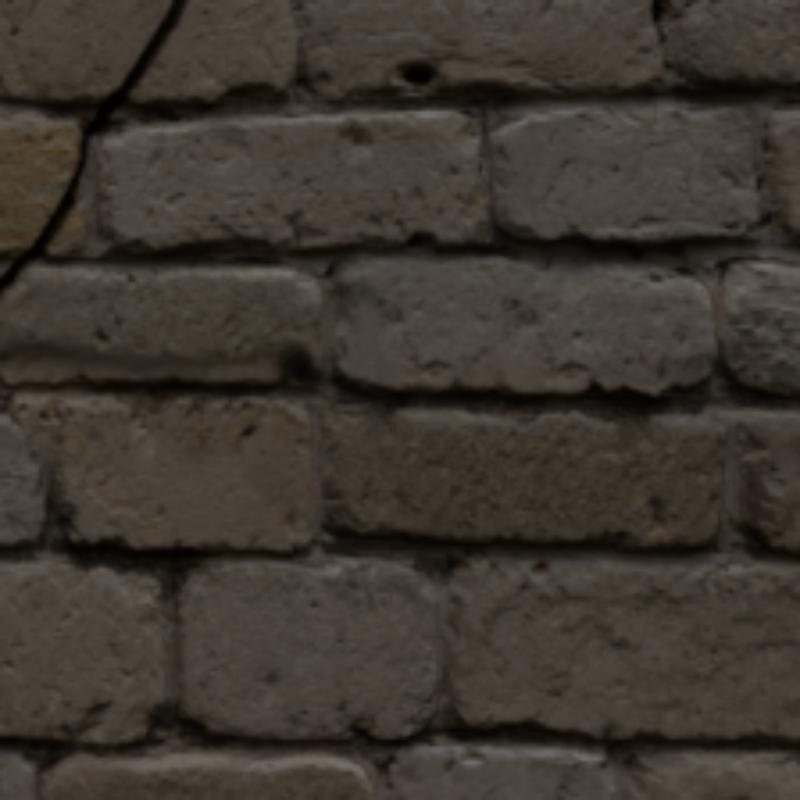crack: (1, 1, 184, 294)
